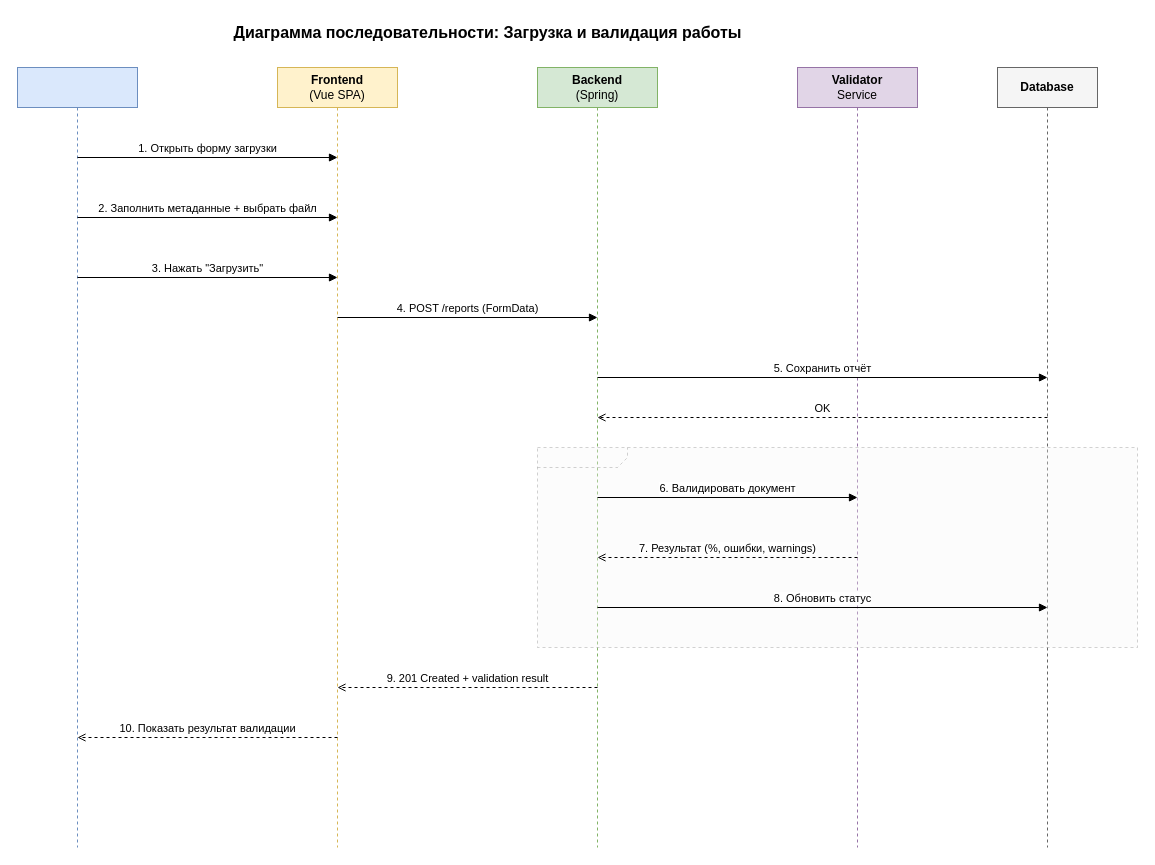
This 1155x865 diagram has some shape labels left out. Each missing label, with the box of its shape:
[autoCheck = true]: (536, 446, 1138, 648)
Преподаватель: (16, 66, 138, 848)
